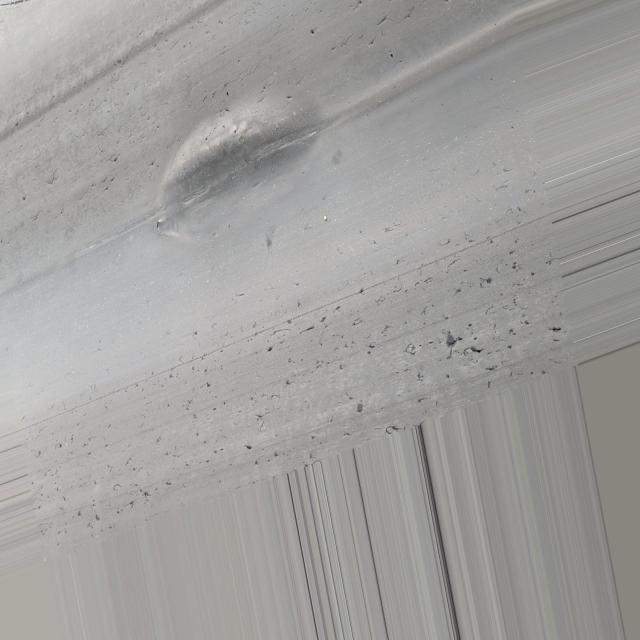Impact Damage: (160, 89, 318, 244)
Puncture: (440, 331, 459, 351), (480, 276, 495, 287), (264, 345, 274, 355), (244, 442, 254, 452), (504, 344, 516, 351), (368, 341, 377, 350), (307, 28, 316, 36), (358, 287, 366, 295), (388, 52, 396, 60), (18, 196, 28, 202), (110, 156, 118, 163), (205, 382, 212, 390), (165, 481, 173, 486), (224, 90, 230, 96)
